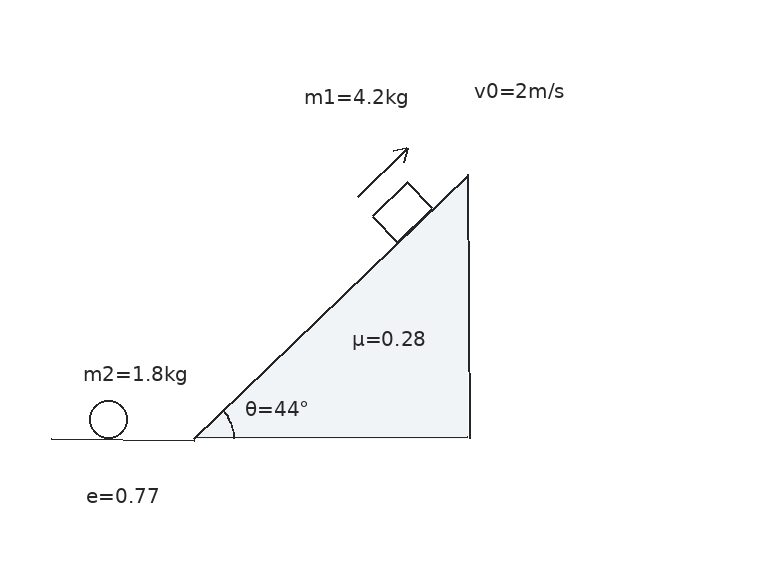ball: (87, 398, 129, 440)
block: (370, 181, 434, 244)
ramp: (192, 172, 469, 440)
